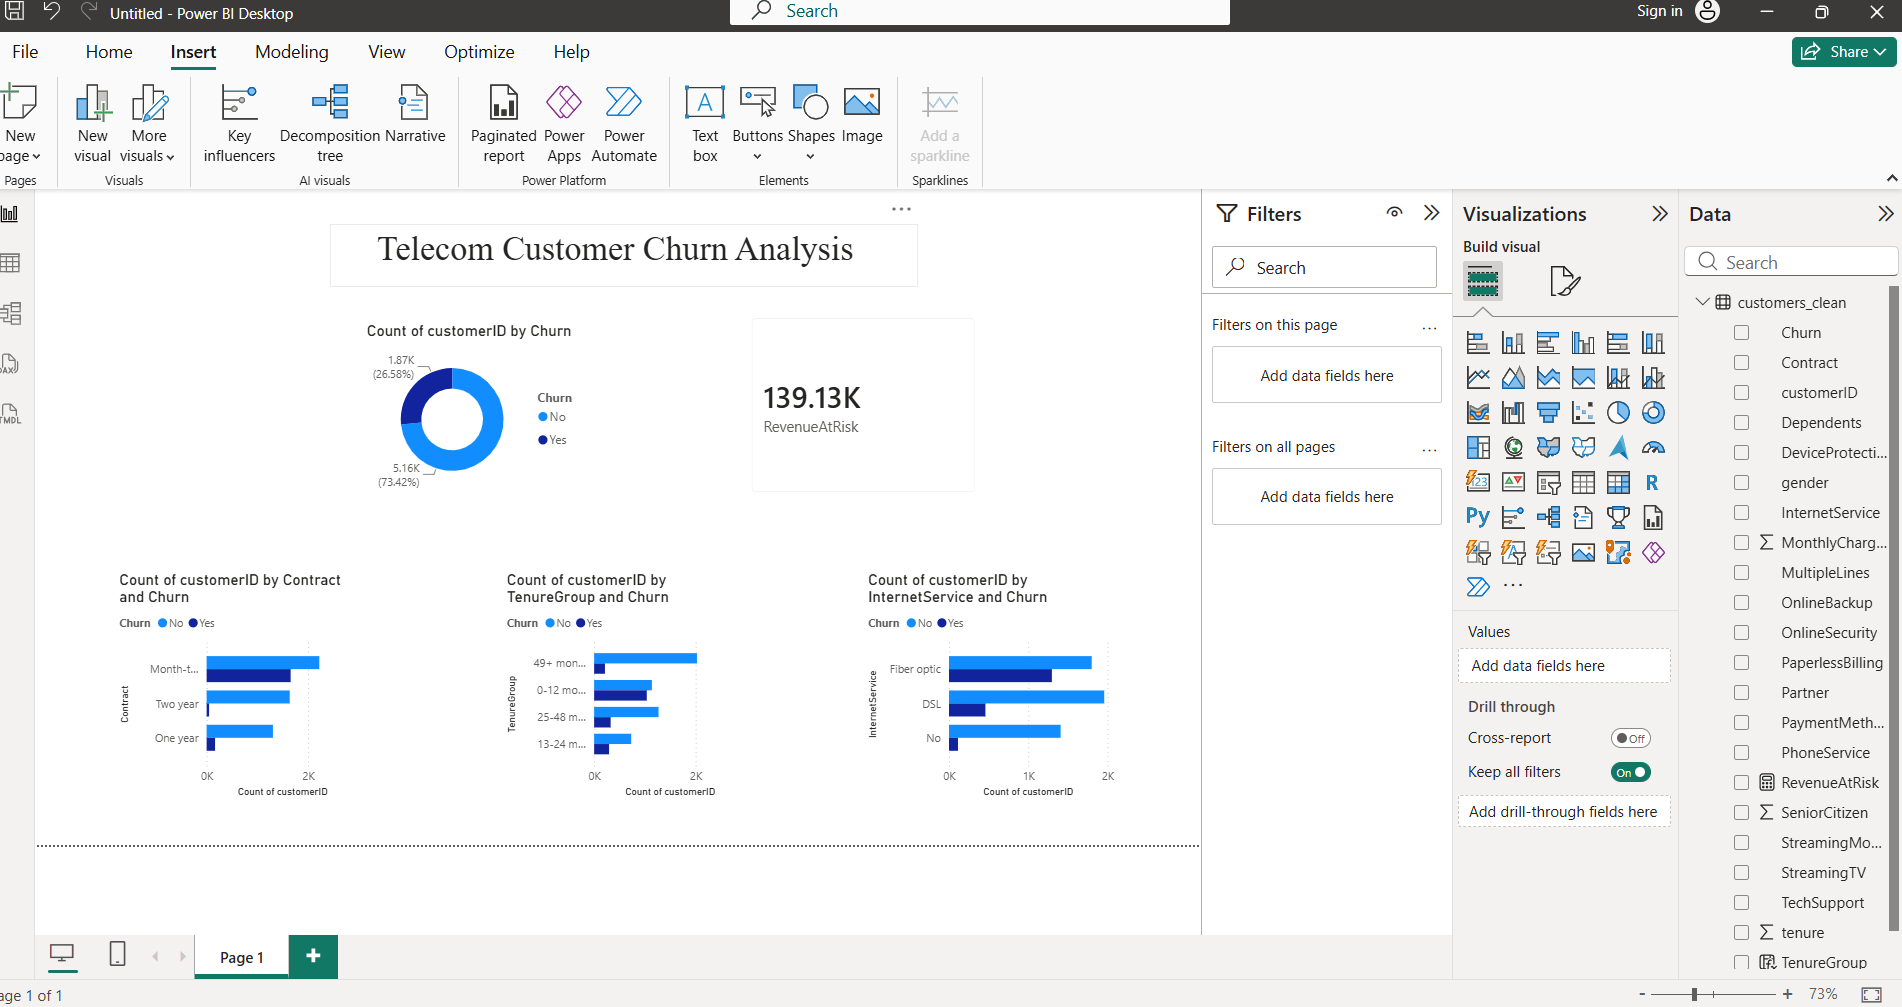

Layout of this report page (visuals, bound fields, positions):
{"tool":"powerbi","page":{"name":"Page 1","canvas":[1280,720],"ordinal":0},"visuals":[{"type":"donutChart","fields":{"Category":["customers_clean.Churn"],"Y":["CountNonNull(customers_clean.customerID)"]},"box":[359.5,145.5,255.2,196.2],"z":0},{"type":"clusteredBarChart","fields":{"Category":["customers_clean.Contract"],"Series":["customers_clean.Churn"],"Y":["CountNonNull(customers_clean.customerID)"]},"box":[87.8,418.5,279.9,253.9],"z":1000},{"type":"clusteredBarChart","fields":{"Category":["customers_clean.TenureGroup"],"Series":["customers_clean.Churn"],"Y":["CountNonNull(customers_clean.customerID)"]},"box":[513.2,418.5,279.9,253.9],"z":2000},{"type":"clusteredBarChart","fields":{"Category":["customers_clean.InternetService"],"Series":["customers_clean.Churn"],"Y":["CountNonNull(customers_clean.customerID)"]},"box":[909.8,392.5,279.9,279.9],"z":3000},{"type":"cardVisual","fields":{"Data":["customers_clean.RevenueAtRisk"]},"box":[769.8,124.9,279.9,225],"z":4000},{"type":"textbox","box":[323.8,38.4,644.9,68.6],"z":5000}]}

Visuals, with their boxes on the page's 1280x720 design canvas (x1, y1, x2, y2). These are canvas units, not pixel positions in the 1902x1007 screenshot, which may show the page scaled, cropped or inside an application window:
donutChart - customers_clean.Churn x CountNonNull(customers_clean.customerID): bbox(360, 146, 615, 342)
clusteredBarChart - customers_clean.Contract x customers_clean.Churn: bbox(88, 418, 368, 672)
clusteredBarChart - customers_clean.TenureGroup x customers_clean.Churn: bbox(513, 418, 793, 672)
clusteredBarChart - customers_clean.InternetService x customers_clean.Churn: bbox(910, 392, 1190, 672)
cardVisual - customers_clean.RevenueAtRisk: bbox(770, 125, 1050, 350)
textbox: bbox(324, 38, 969, 107)
